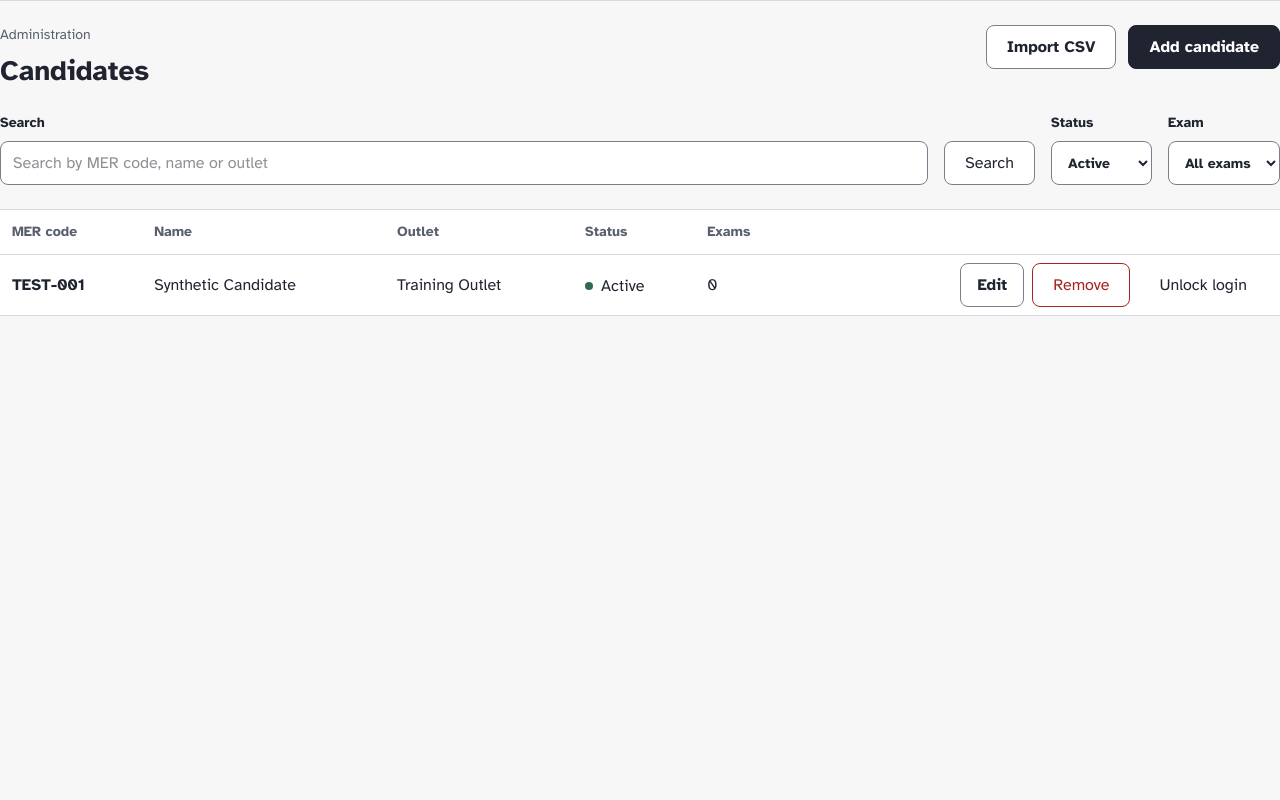
CandidateList › removes the row after a successful DELETE
Check: the text "Synthetic Candidate" is shown, box [142, 254, 385, 315]
Click the button "Remove". click: (1081, 285)
box: [1032, 263, 1130, 307]
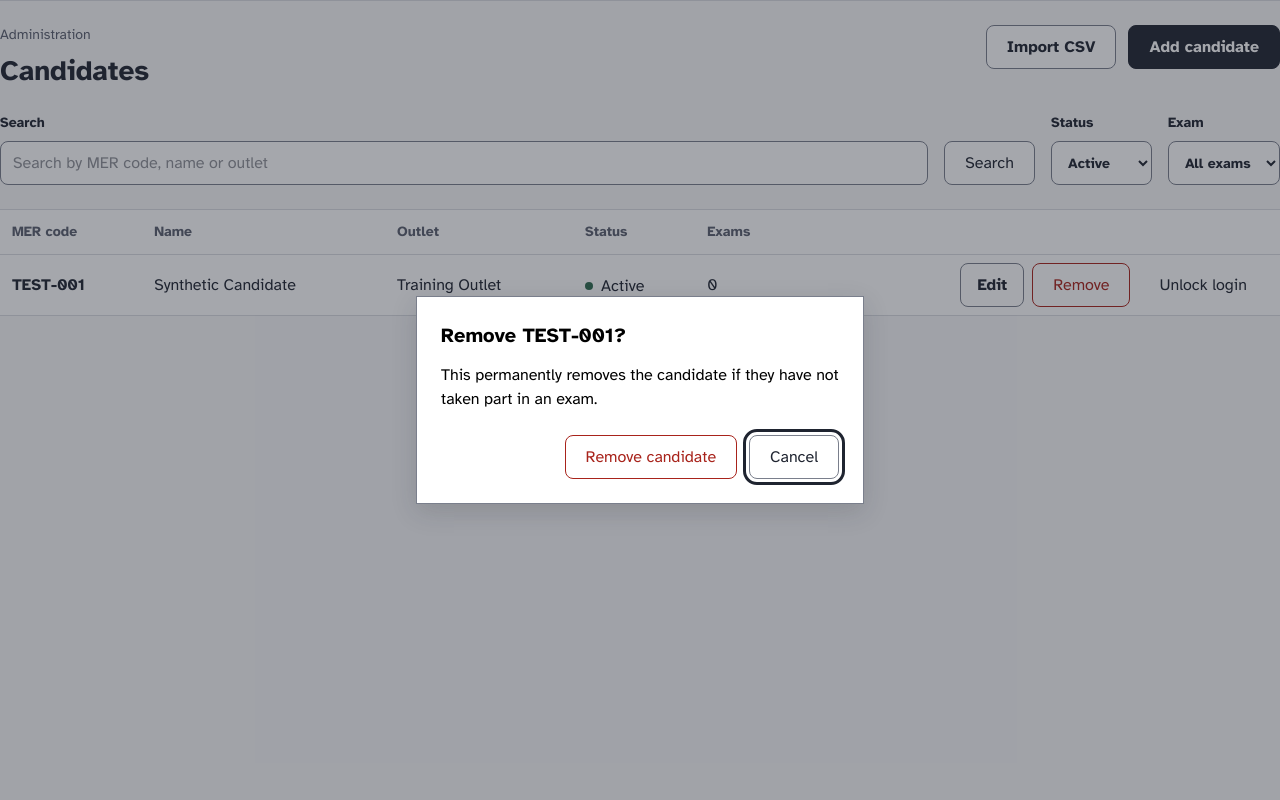
Click the button "Remove candidate". click: (651, 457)
box: [565, 435, 737, 479]
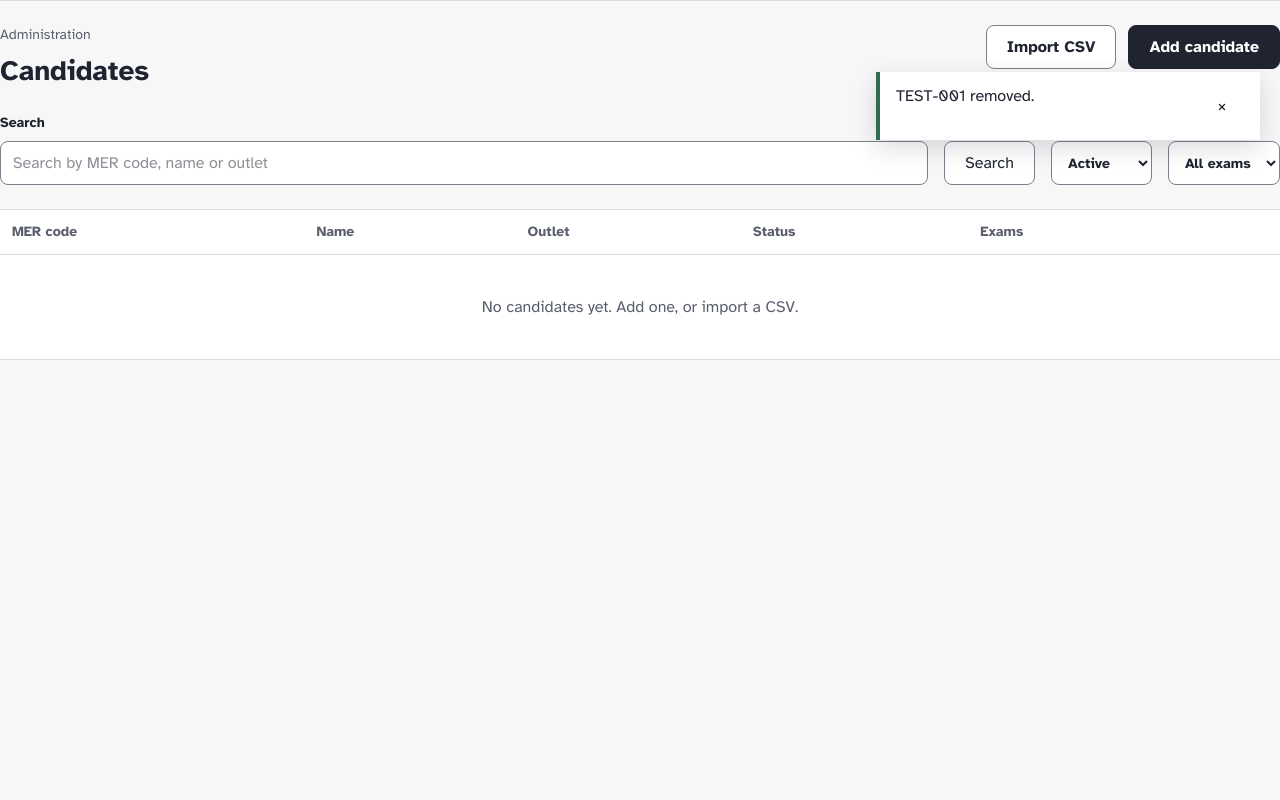
Check: the text "Synthetic Candidate" is gone
